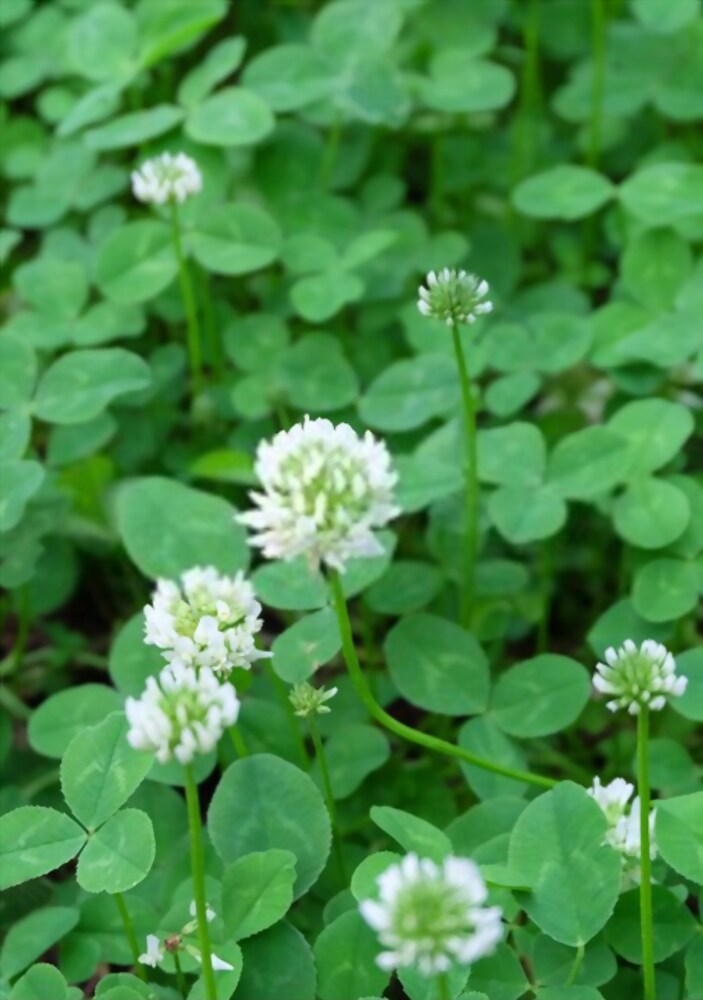clover: (379, 609, 594, 805), (96, 136, 282, 303), (1, 709, 158, 897), (150, 846, 301, 1000), (235, 2, 412, 133), (462, 419, 630, 546), (1, 326, 151, 461), (221, 311, 358, 417)
clover blossom white: (231, 410, 404, 578), (359, 851, 505, 978), (139, 562, 274, 673), (122, 665, 242, 766), (573, 774, 657, 895), (588, 634, 690, 716), (414, 266, 495, 328), (127, 149, 204, 204)
